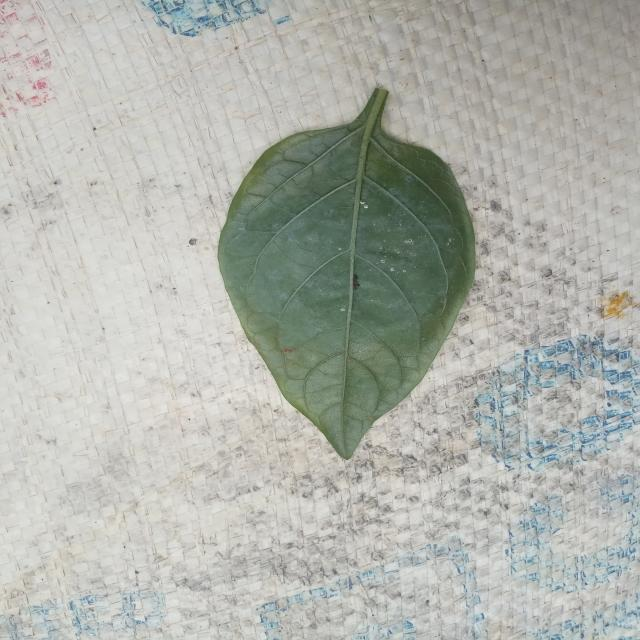ganike: (218, 89, 475, 459)
